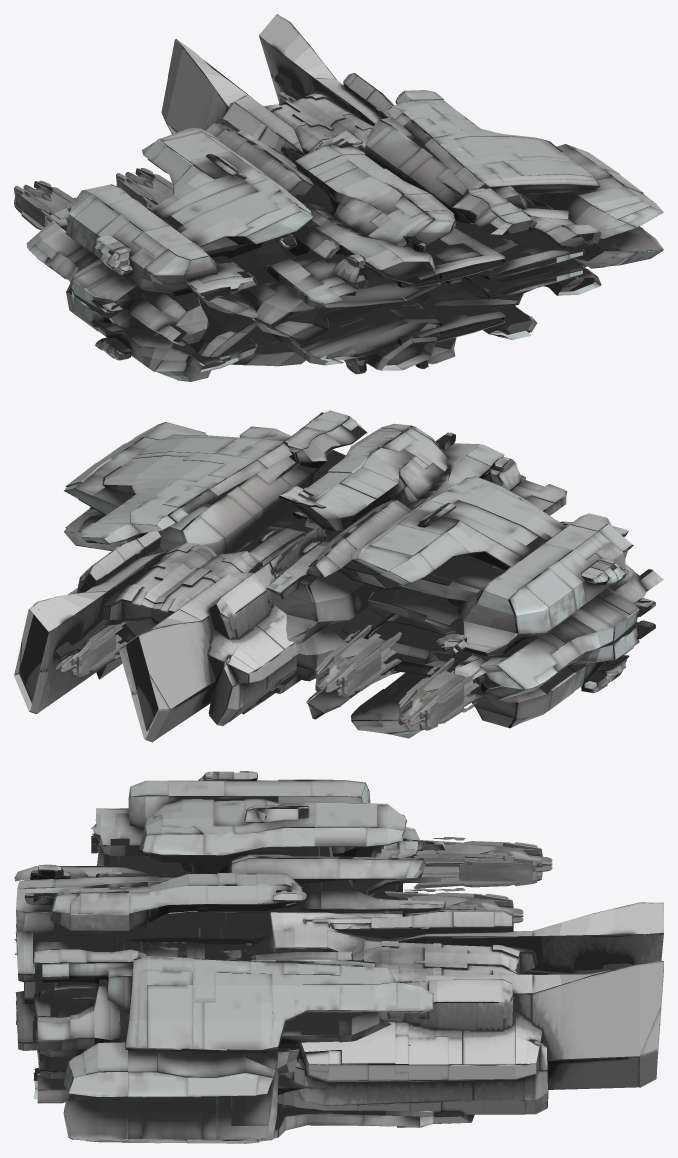
File: MOTHERSHIP_002.fbx
3 renders of one model, top to bottom at view 1: azimuth 30°, elevation 25°; view 2: azimuth 150°, elevation 25°; view 3: azimuth 270°, elevation 25°, orthographic. The views are drawn at different scales.
Visible parts, largest first — view 1: MOTHERSHIP_002; view 2: MOTHERSHIP_002; view 3: MOTHERSHIP_002.
Part boxes in pixels (x1,y1,x2,y2): MOTHERSHIP_002: (14, 14, 663, 381); MOTHERSHIP_002: (14, 410, 663, 742); MOTHERSHIP_002: (14, 771, 663, 1143).
Size of the model in its own units: 110 by 36.2 by 101.
